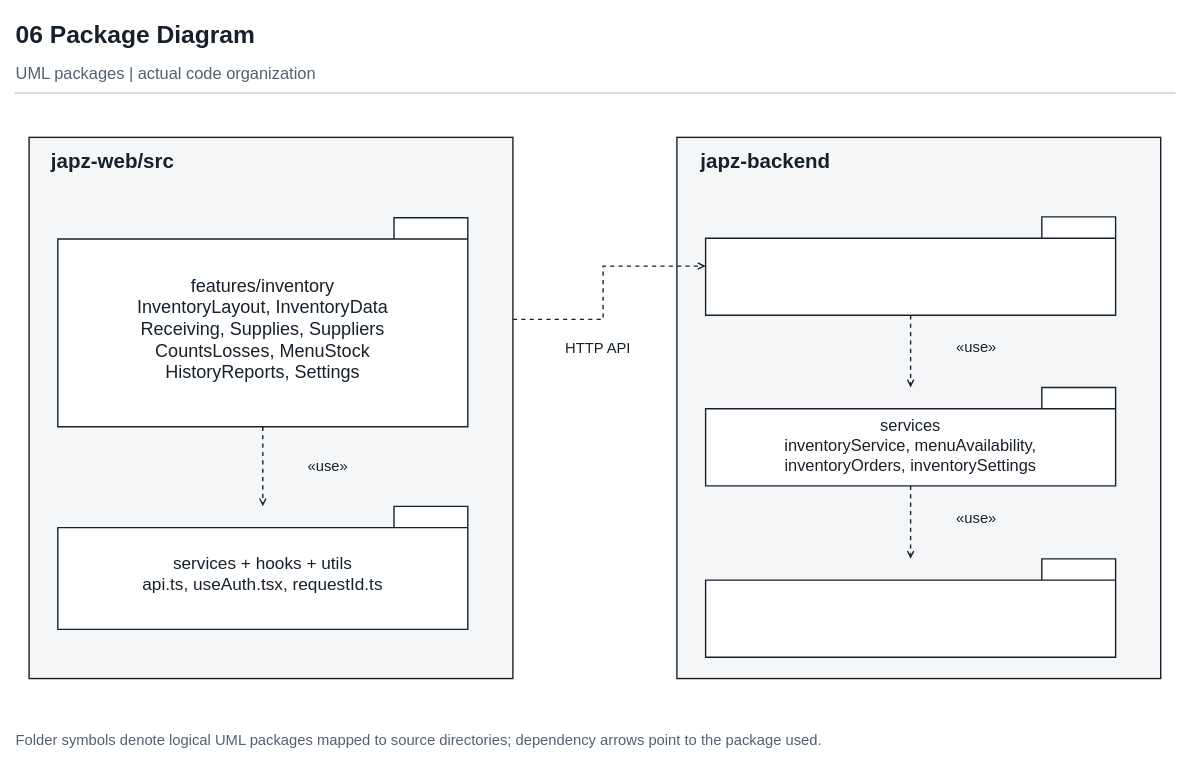
Image size: 1191x775. Some labels were removed from this diagram. Each missing label, with the centre of its shape:
"models inventoryModels.js, index.js, db.js" goes at [910,608].
"routes + middleware inventory.js, access.js" goes at [910,266].
